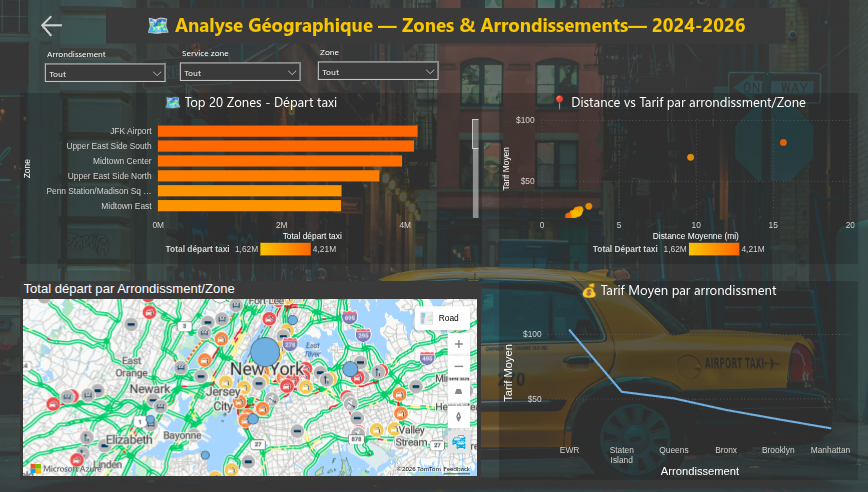

This screenshot's page, from the dashboard's own definition file:
{"tool":"powerbi","page":{"name":"Analyse Zones","canvas":[1280,720],"ordinal":1},"visuals":[{"type":"clusteredBarChart","title":"🗺️ Top 20 Zones - Départ taxi","fields":{"Category":["ZONE_ANALYSIS.ZONE_NAME"],"Y":["Sum(ZONE_ANALYSIS.TOTAL_PICKUPS)"]},"box":[43.3,132.2,660,244.4],"z":0},{"type":"scatterChart","title":"📍 Distance vs Tarif par arrondissment/Zone","fields":{"Category":["ZONE_ANALYSIS.BOROUGH","ZONE_ANALYSIS.ZONE_NAME"],"X":["Avg(ZONE_ANALYSIS.AVG_DISTANCE)"],"Y":["Avg(ZONE_ANALYSIS.AVG_FARE)"]},"box":[726.7,132.2,513.3,244.4],"z":1000},{"type":"azureMap","title":"Total départ par Arrondissment/Zone","fields":{"Category":["ZONE_ANALYSIS.BOROUGH","ZONE_ANALYSIS.ZONE_NAME"],"Size":["Sum(ZONE_ANALYSIS.TOTAL_PICKUPS)"]},"box":[43.3,401.1,657.8,284.4],"z":2000},{"type":"lineChart","title":"💰 Tarif Moyen par arrondissment","fields":{"Category":["ZONE_ANALYSIS.BOROUGH"],"Y":["Avg(ZONE_ANALYSIS.AVG_FARE)"]},"box":[726.7,401.1,513.3,284.4],"z":3000},{"type":"textbox","box":[165.7,11.4,971.4,51.4],"z":4000},{"type":"slicer","fields":{"Values":["ZONE_ANALYSIS.BOROUGH"]},"box":[68.9,62.2,192.2,65.6],"z":5000},{"type":"slicer","fields":{"Values":["ZONE_ANALYSIS.SERVICE_ZONE"]},"box":[261.1,61.1,192.2,65.6],"z":6000},{"type":"slicer","fields":{"Values":["ZONE_ANALYSIS.ZONE_NAME"]},"box":[458.9,60,192.2,66.7],"z":7000},{"type":"actionButton","box":[68.6,17.1,100,40],"z":8000}]}

Visuals, with their boxes in screenshot pixels (x1, y1, x2, y2), scaled from the page's 1280x720 canvas onto the 868x492 screenshot:
"🗺️ Top 20 Zones - Départ taxi" clusteredBarChart: region(29, 90, 477, 257)
"📍 Distance vs Tarif par arrondissment/Zone" scatterChart: region(493, 90, 841, 257)
"Total départ par Arrondissment/Zone" azureMap: region(29, 274, 475, 468)
"💰 Tarif Moyen par arrondissment" lineChart: region(493, 274, 841, 468)
textbox: region(112, 8, 771, 43)
slicer - ZONE_ANALYSIS.BOROUGH: region(47, 43, 177, 87)
slicer - ZONE_ANALYSIS.SERVICE_ZONE: region(177, 42, 307, 87)
slicer - ZONE_ANALYSIS.ZONE_NAME: region(311, 41, 442, 87)
actionButton: region(47, 12, 114, 39)
